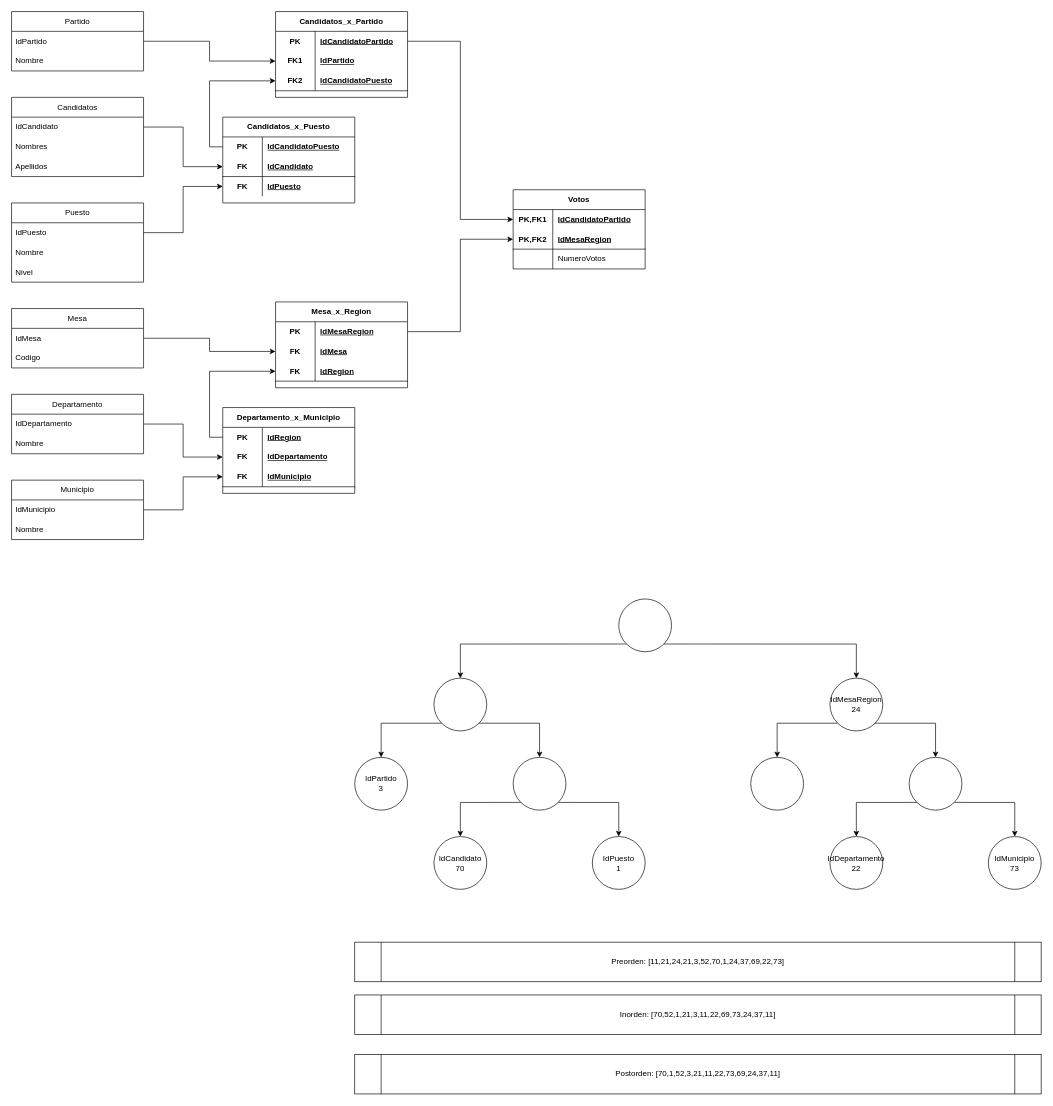
This 1053x1106 diagram has some shape labels left out. The centre of each missing label's shape, as x and y in pixels:
"IdCandidatoPartido 21" goes at (x=460, y=704).
"IdCandidatoPuesto 52" goes at (x=539, y=783).
"IdMesa 37" goes at (x=777, y=783).
"IdRegion 69" goes at (x=935, y=783).
"IdVoto 11" goes at (x=645, y=625).
